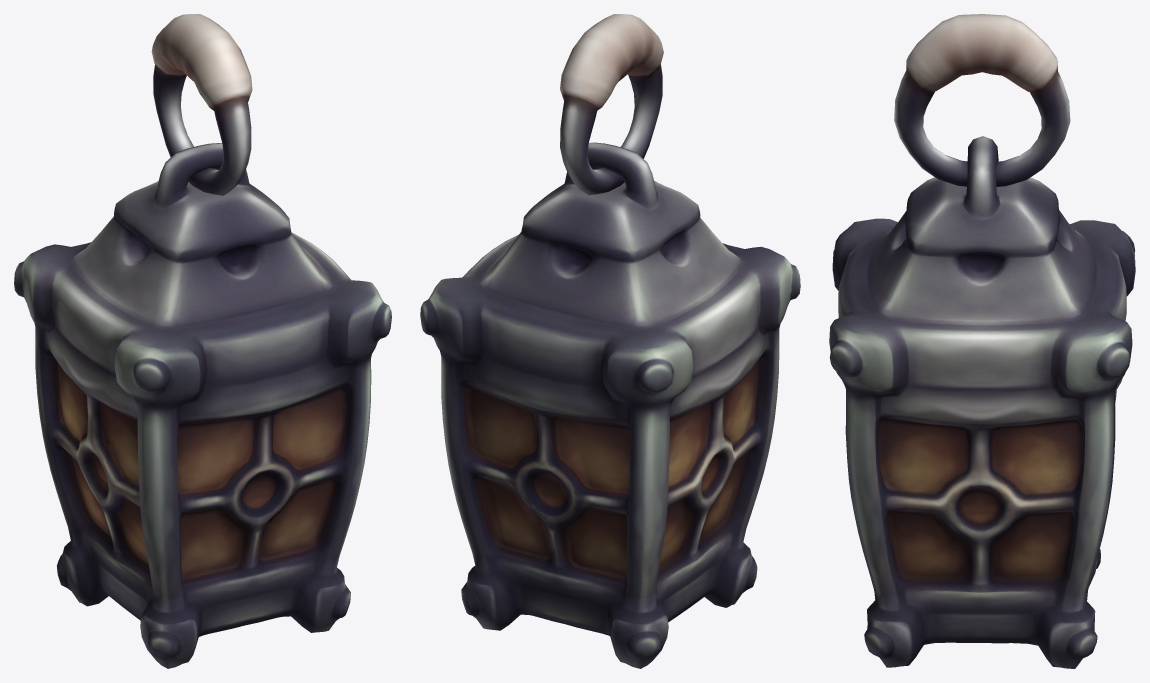
File: Lantern.FBX
3 renders of one model, left to right at view 1: azimuth 30°, elevation 25°; view 2: azimuth 150°, elevation 25°; view 3: azimuth 270°, elevation 25°, orthographic. The views are drawn at different scales.
Visible parts, largest first — view 1: Lantern; view 2: Lantern; view 3: Lantern.
Boxes of the visible parts, x1,y1,x2,y2 form: Lantern: (14,14,391,668); Lantern: (420,14,800,668); Lantern: (829,14,1135,668).
Size of the model in its own units: 24.98 by 24.94 by 54.98.
Materials: 1 (1 with a texture image).
